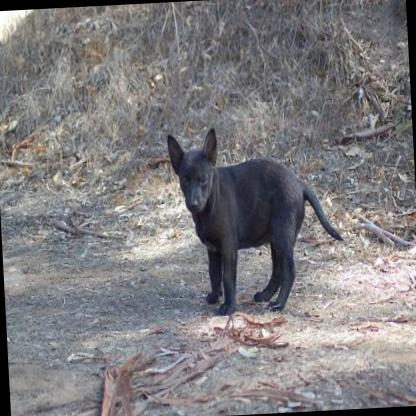kelpie: (162, 121, 344, 318)
